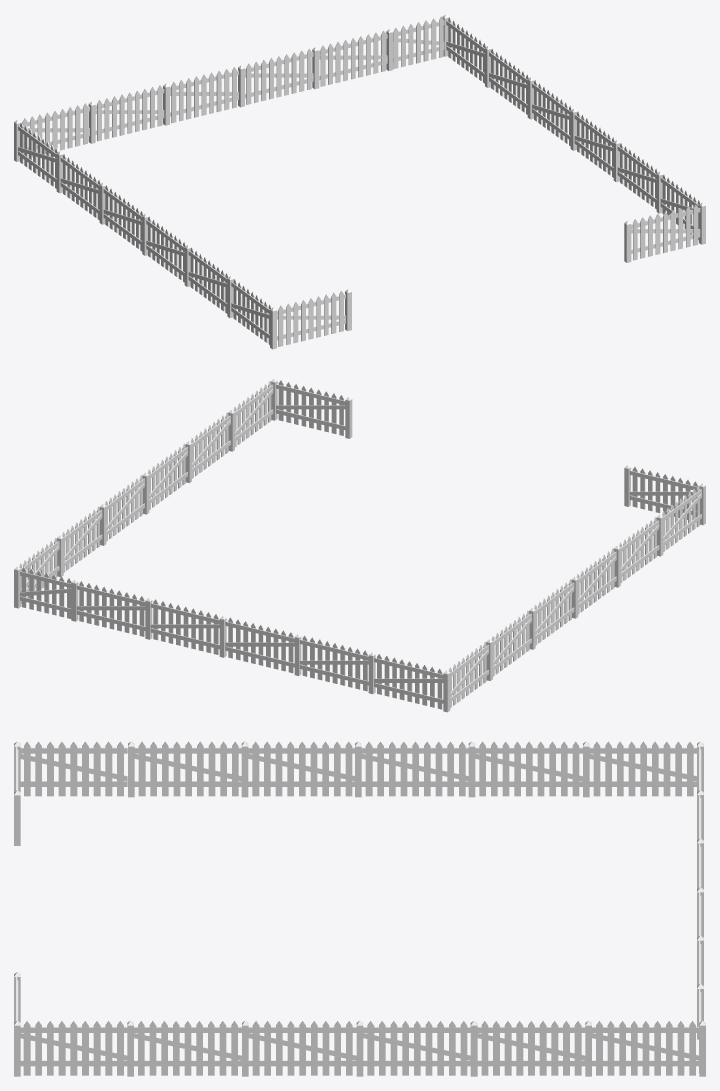
Rendered from hangrao2_idel.fbx.
3 views of the same model, one above another, from view 1: azimuth 30°, elevation 25°; view 2: azimuth 150°, elevation 25°; view 3: azimuth 270°, elevation 25° (orthographic). The views are drawn at different scales.
Parts seen in each view (by area): view 1: polySurface359, polySurface383, polySurface361, polySurface367, polySurface366, polySurface376, polySurface341, polySurface353, polySurface373, polySurface374, polySurface369, polySurface356 (+8 smaller); view 2: polySurface383, polySurface359, polySurface366, polySurface341, polySurface367, polySurface361, polySurface376, polySurface353, polySurface373, polySurface356, polySurface389, polySurface368 (+8 smaller); view 3: polySurface373, polySurface368, polySurface364, polySurface369, polySurface370, polySurface389, polySurface374, polySurface356, polySurface360, polySurface354, polySurface248, polySurface204 (+3 smaller).
Boxes of the visible parts, x1,y1,x2,y2 form: polySurface359: (624,202,705,262); polySurface383: (88,83,169,143); polySurface361: (270,289,351,349); polySurface367: (312,31,387,89); polySurface366: (238,49,313,107); polySurface376: (170,67,238,123); polySurface341: (14,103,89,161); polySurface353: (386,16,444,70); polySurface373: (99,182,148,255); polySurface374: (56,151,100,220); polySurface369: (527,77,571,146); polySurface356: (188,247,234,317); polySurface383: (294,634,375,694); polySurface359: (270,378,352,438); polySurface366: (150,599,226,657); polySurface341: (374,653,450,712); polySurface367: (76,581,152,639); polySurface361: (624,465,705,525); polySurface376: (225,617,294,673); polySurface353: (20,567,78,621); polySurface373: (529,576,578,649); polySurface356: (619,514,663,583); polySurface389: (228,381,273,451); polySurface368: (56,506,102,577); polySurface373: (355,741,475,797); polySurface368: (477,1020,591,1076); polySurface364: (241,741,354,797); polySurface369: (363,1021,477,1076); polySurface370: (248,1021,363,1076); polySurface389: (20,1020,133,1076); polySurface374: (475,741,589,797); polySurface356: (128,741,241,797); polySurface360: (134,1020,248,1076); polySurface354: (592,1020,705,1076); polySurface248: (20,741,127,796); polySurface204: (589,741,696,796).
Bounding box in the file's own units: 1344 × 121 × 1394.
Materials: 1 (1 with a texture image).
